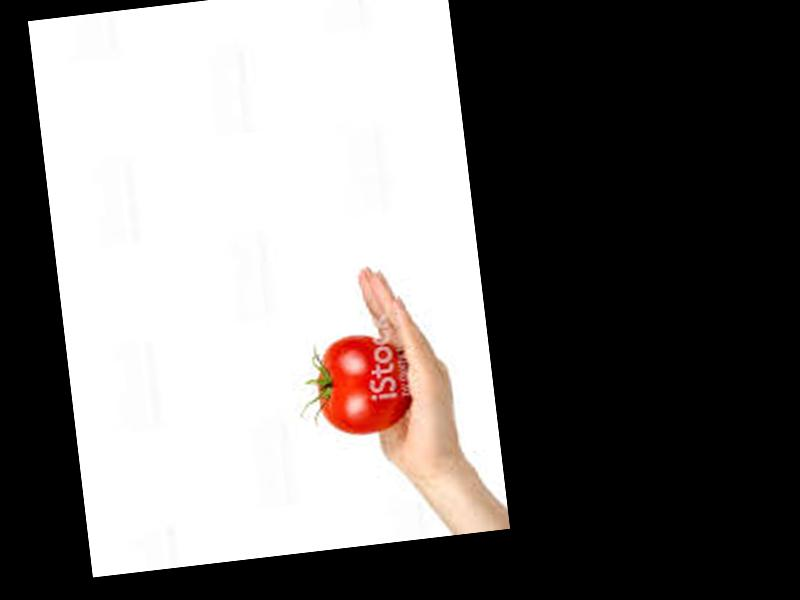Tomato: (310, 331, 413, 439)
